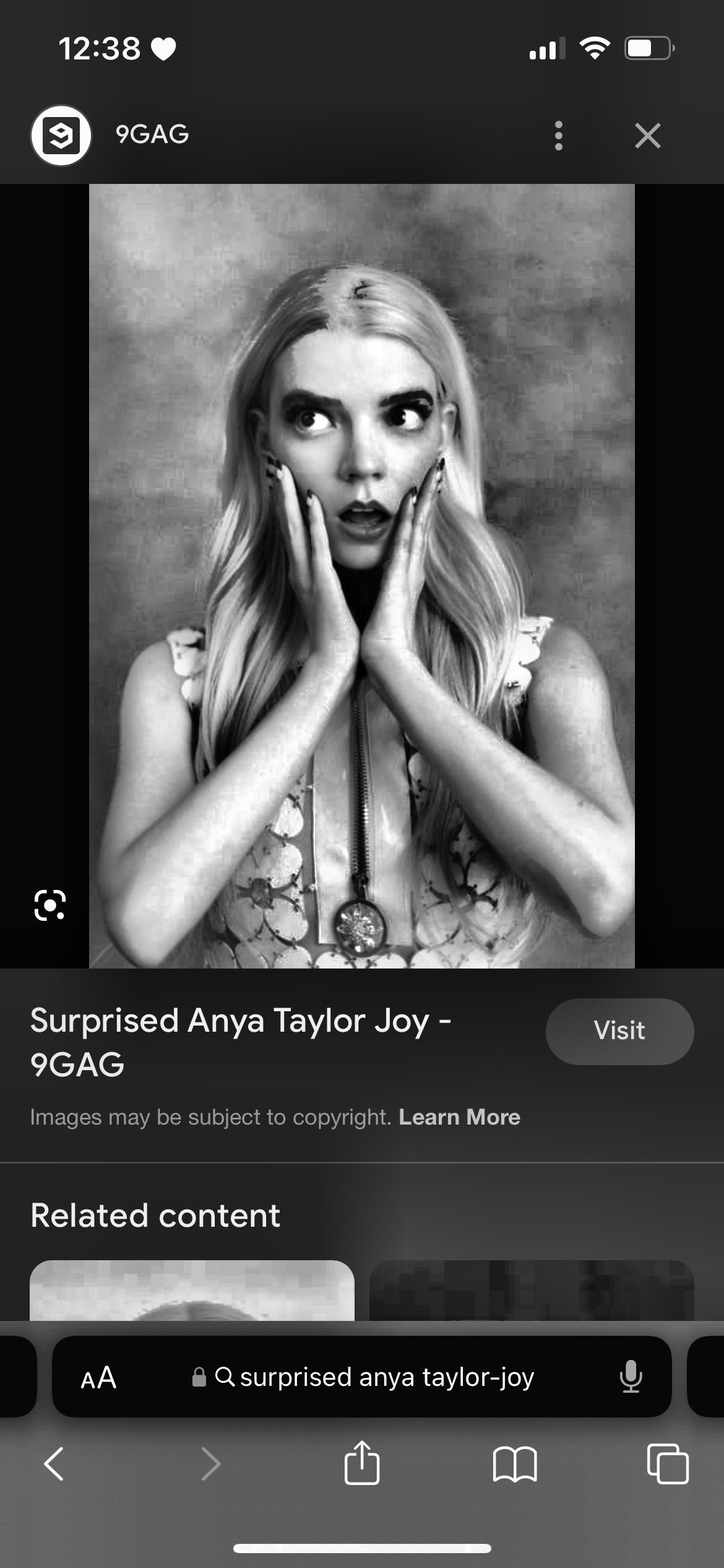surprised: (244, 316, 473, 584)
